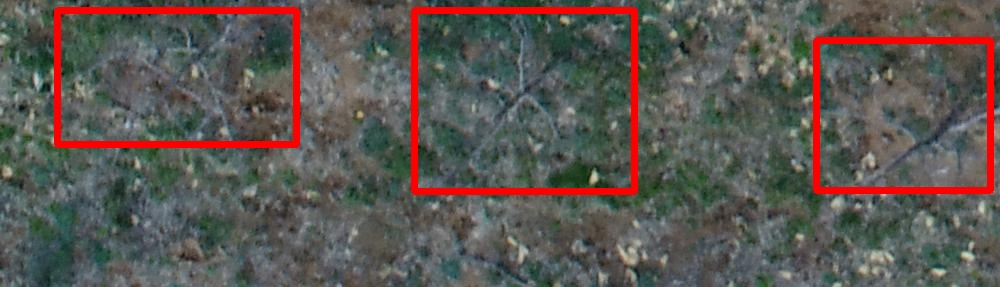apple: (414, 10, 634, 191), (57, 10, 296, 144), (816, 40, 990, 190)
